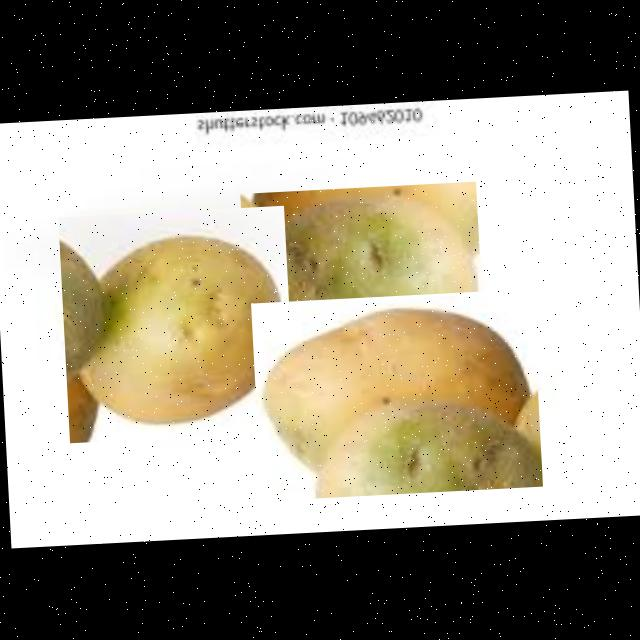Defected potato: (251, 289, 543, 501), (58, 206, 296, 444), (240, 182, 487, 404)
